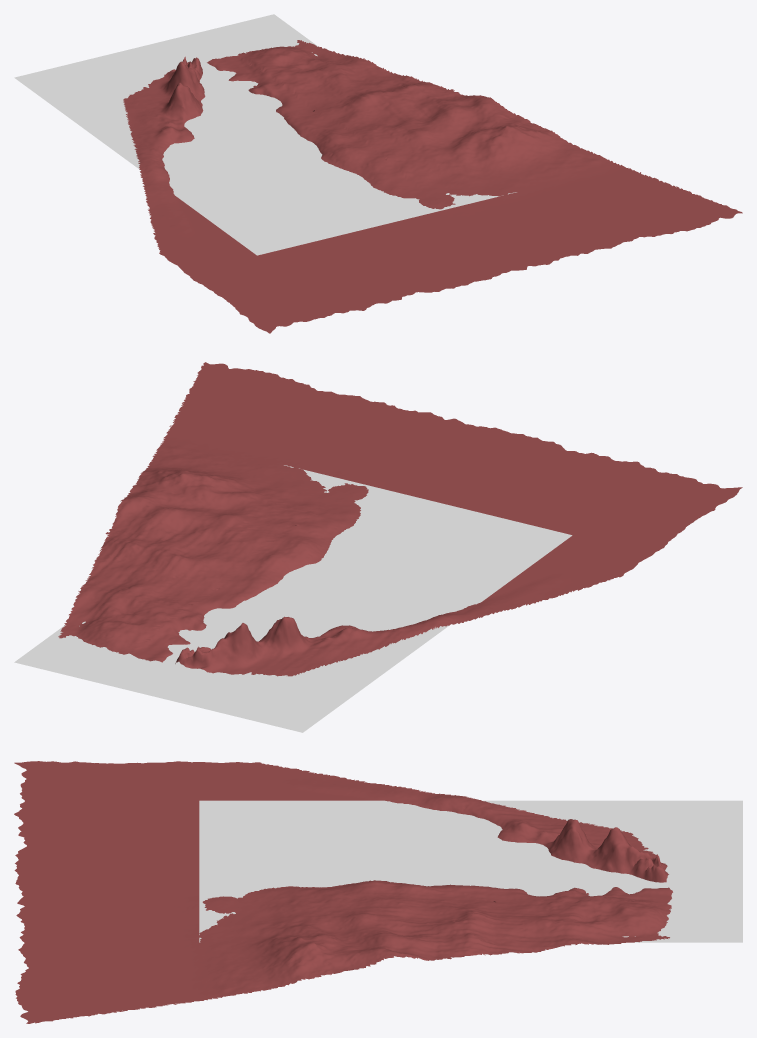
Rendered from terrainscene.FBX.
The picture shows the model from 3 angles, top to bottom: view 1: azimuth 30°, elevation 25°; view 2: azimuth 150°, elevation 25°; view 3: azimuth 270°, elevation 25°; orthographic projection. The views are drawn at different scales.
Parts seen in each view (by area): view 1: Plane002, Plane003; view 2: Plane002, Plane003; view 3: Plane002, Plane003.
Part boxes in pixels (x1=…): Plane002: x1=123, y1=40, x2=742, y2=333; Plane003: x1=14, y1=14, x2=516, y2=255; Plane002: x1=58, y1=362, x2=742, y2=676; Plane003: x1=14, y1=465, x2=572, y2=732; Plane002: x1=14, y1=761, x2=672, y2=1023; Plane003: x1=199, y1=800, x2=742, y2=942.
Size of the model in its own units: 132 by 10.18 by 154.
